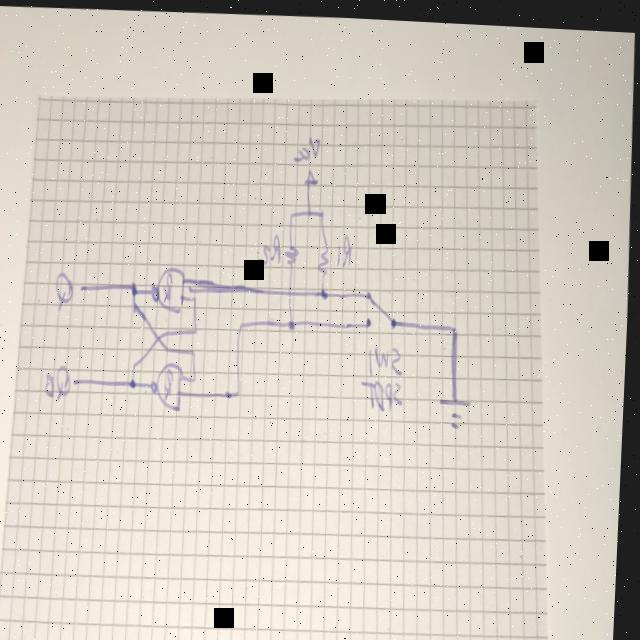crossover: (157, 329, 165, 342), (289, 282, 296, 294)
ground: (440, 390, 476, 427)
junction: (453, 318, 463, 332), (322, 281, 331, 295), (133, 299, 142, 313), (133, 279, 141, 294), (290, 313, 298, 328), (132, 374, 141, 387), (133, 357, 141, 368), (193, 343, 200, 355), (241, 317, 247, 330), (320, 205, 327, 215), (195, 370, 201, 381), (195, 322, 201, 332), (240, 385, 246, 395), (167, 341, 173, 351), (308, 204, 314, 213), (291, 207, 296, 215), (195, 292, 200, 300), (169, 326, 173, 336)
resistor: (319, 235, 333, 271), (286, 241, 301, 263)
source: (303, 164, 320, 185)
switch: (367, 284, 400, 327)
terminal: (75, 371, 86, 386), (81, 278, 91, 293)
text: (363, 373, 408, 410), (370, 338, 408, 374), (46, 362, 76, 399), (292, 130, 322, 161), (260, 228, 286, 263), (58, 269, 77, 308), (338, 228, 355, 265)
